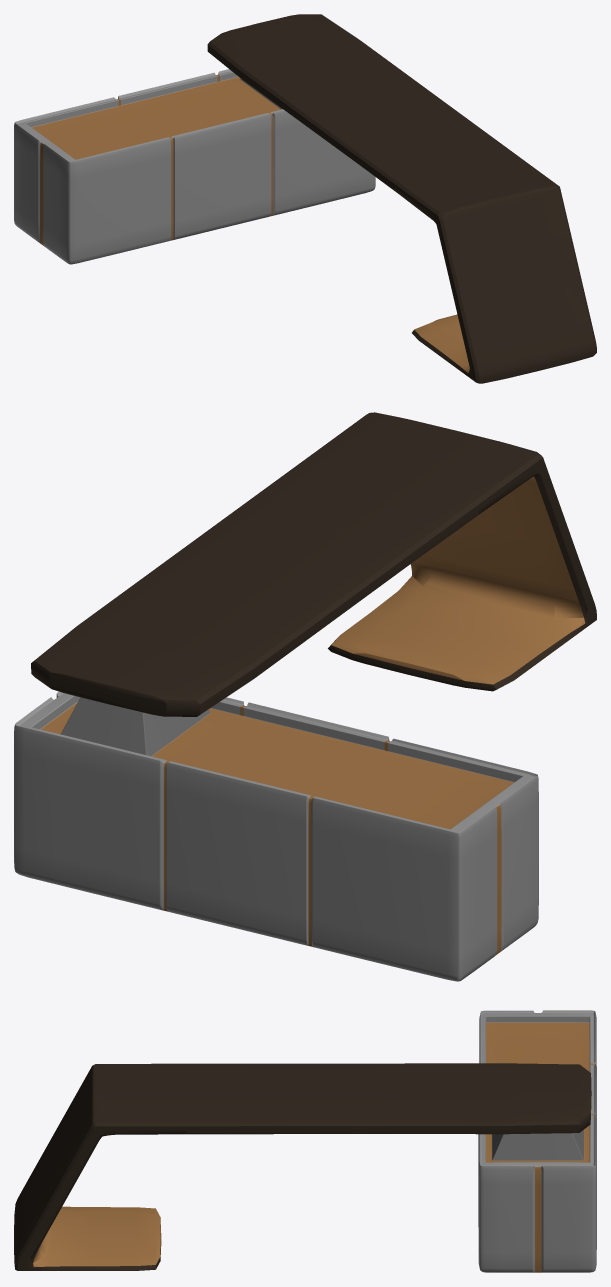
Rendered from Executive_Desk.fbx.
3 renders of one model, top to bottom at view 1: azimuth 30°, elevation 25°; view 2: azimuth 150°, elevation 25°; view 3: azimuth 270°, elevation 25°, orthographic. The views are drawn at different scales.
Visible parts, largest first — view 1: Plane; view 2: Plane; view 3: Plane.
Boxes of the visible parts, x1=… form: Plane: x1=14, y1=14, x2=596, y2=383; Plane: x1=14, y1=412, x2=596, y2=981; Plane: x1=14, y1=1010, x2=596, y2=1272.
Size of the model in its own units: 4.34 by 1.96 by 6.84.
